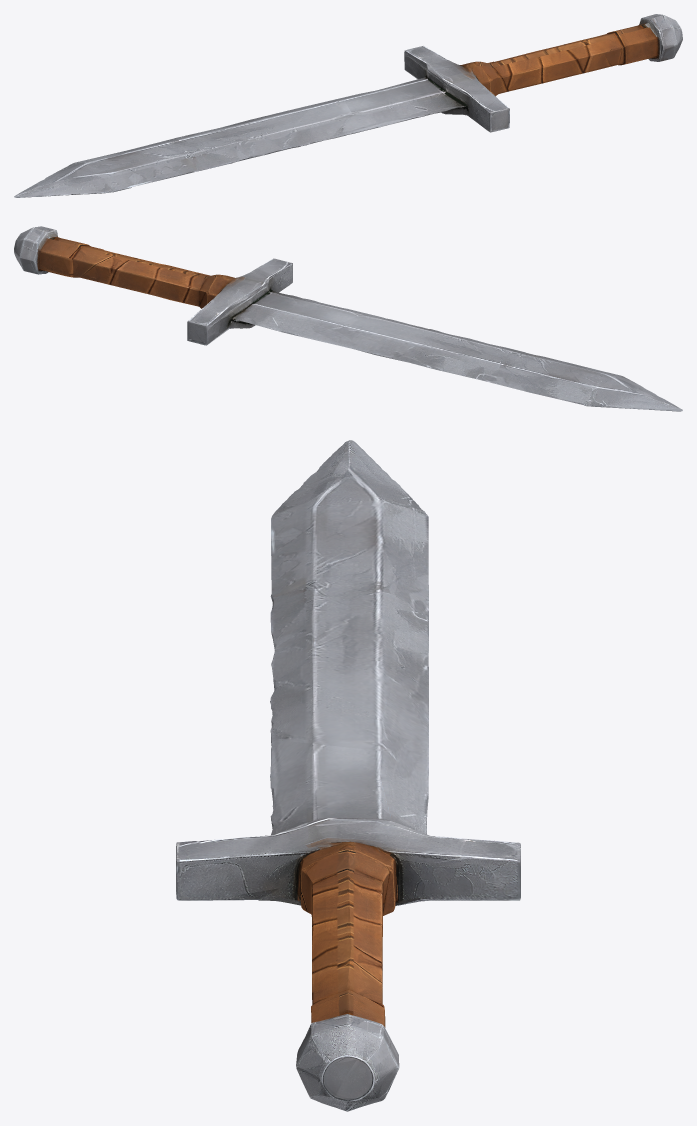
File: weapon_common.glb
3 views of the same model, one above another, from view 1: azimuth 30°, elevation 25°; view 2: azimuth 150°, elevation 25°; view 3: azimuth 270°, elevation 25° (orthographic). The views are drawn at different scales.
Visible parts, largest first — view 1: output_unwrapped; view 2: output_unwrapped; view 3: output_unwrapped.
Boxes of the visible parts, bbox=[...] form: output_unwrapped: bbox=[14, 14, 682, 197]; output_unwrapped: bbox=[14, 226, 682, 411]; output_unwrapped: bbox=[176, 440, 520, 1111].
Size of the model in its own units: 1.89 by 0.1168 by 0.427.
1 material, 1 textured.
